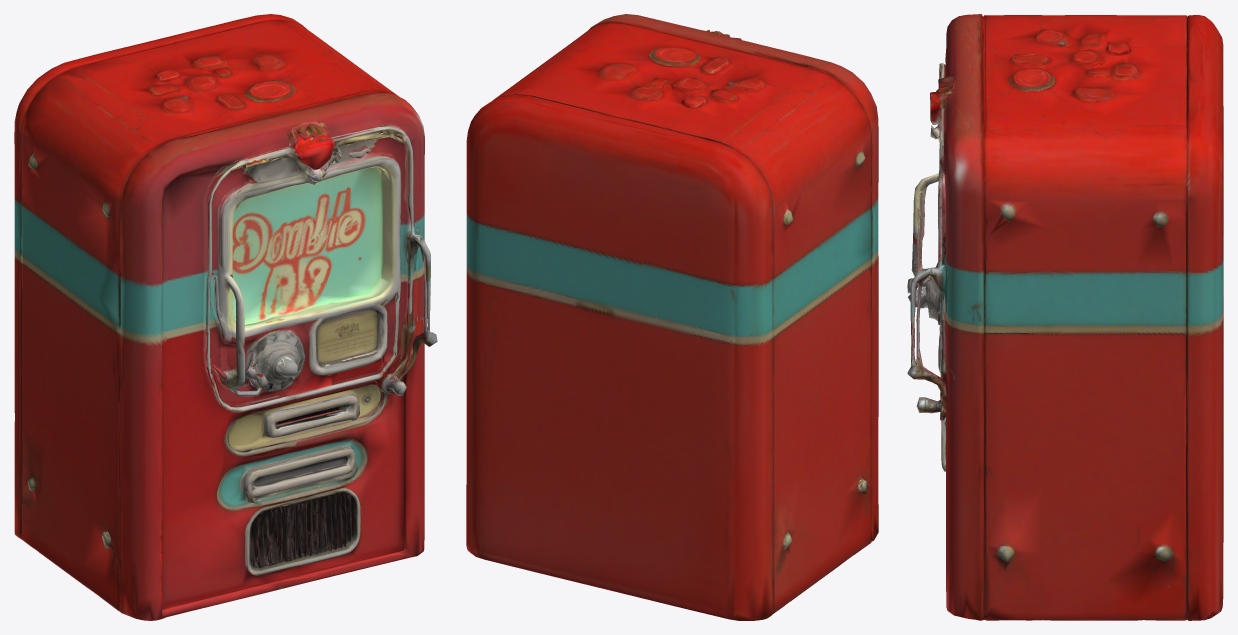
The model's file is doubleTap.glb.
The picture shows the model from 3 angles, left to right: view 1: azimuth 30°, elevation 25°; view 2: azimuth 150°, elevation 25°; view 3: azimuth 270°, elevation 25°; orthographic projection. The views are drawn at different scales.
Size of the model in its own units: 1.41 by 2 by 1.19.
Materials: 1 (1 with a texture image).
